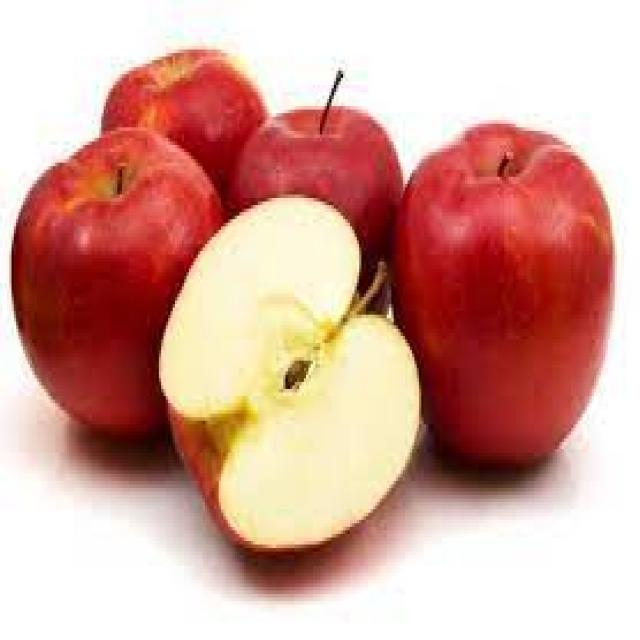apple: (154, 191, 424, 559), (396, 113, 617, 495), (5, 127, 228, 446), (230, 78, 412, 258), (96, 42, 272, 184)
